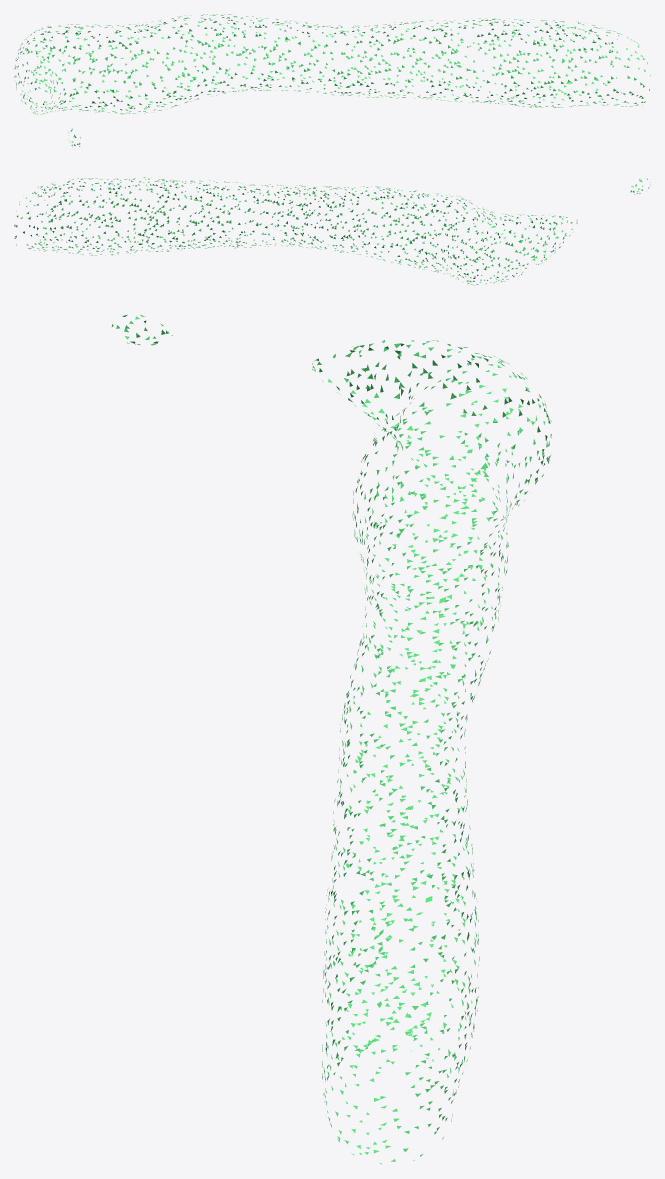
Rendered from morph_020.glb.
The picture shows the model from 3 angles, top to bottom: view 1: azimuth 30°, elevation 25°; view 2: azimuth 150°, elevation 25°; view 3: azimuth 270°, elevation 25°; orthographic projection. The views are drawn at different scales.
Bounding box in the file's own units: 144 × 41.2 × 49.82.
